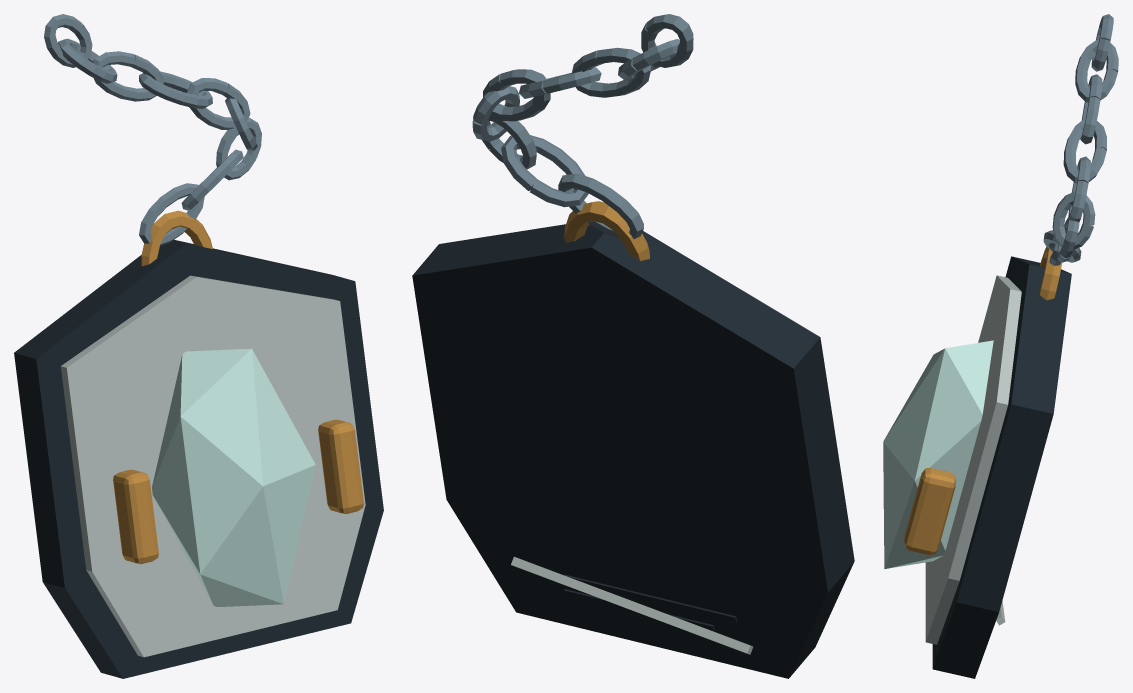
3 views of the same model, side by side, from view 1: azimuth 30°, elevation 25°; view 2: azimuth 150°, elevation 25°; view 3: azimuth 270°, elevation 25° (orthographic). The views are drawn at different scales.
Visible parts, largest first — view 1: C1-01_edge, C1-01_ink, C1-01_salt, C1-01_steel, C1-01_brass; view 2: C1-01_ink, C1-01_steel, C1-01_edge, C1-01_brass; view 3: C1-01_ink, C1-01_salt, C1-01_edge, C1-01_steel, C1-01_brass.
Part boxes in pixels (<box>): C1-01_edge: <box>60,275,365,657</box>; C1-01_ink: <box>14,239,383,678</box>; C1-01_salt: <box>152,348,315,606</box>; C1-01_steel: <box>44,14,261,245</box>; C1-01_brass: <box>113,210,363,563</box>; C1-01_ink: <box>412,224,854,678</box>; C1-01_steel: <box>472,14,693,238</box>; C1-01_edge: <box>511,556,753,654</box>; C1-01_brass: <box>564,201,649,260</box>; C1-01_ink: <box>932,256,1071,678</box>; C1-01_salt: <box>883,340,993,569</box>; C1-01_edge: <box>925,275,1021,644</box>; C1-01_steel: <box>1043,14,1118,265</box>; C1-01_brass: <box>904,246,1062,555</box>.
Size of the model in its own units: 0.28 by 0.5025 by 0.1882.
